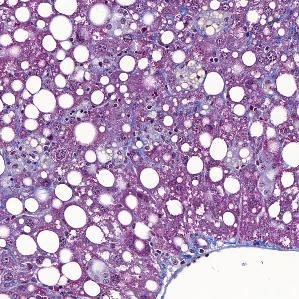fibrosis: (114, 99, 190, 153), (10, 147, 62, 190)
